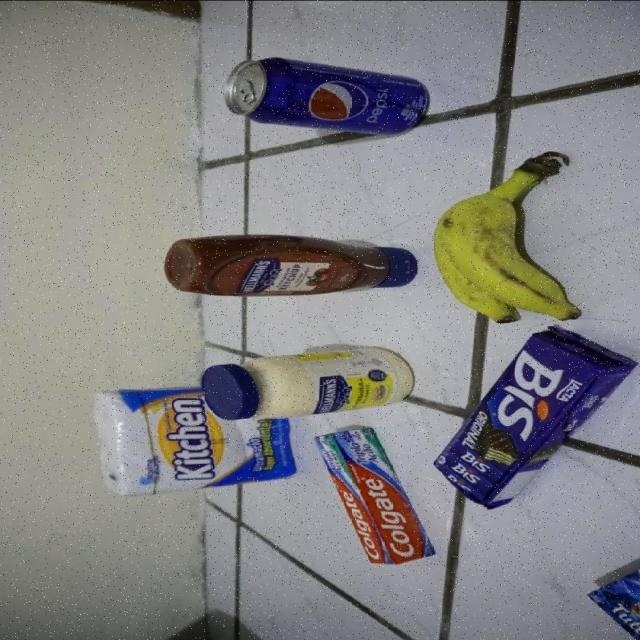Banana: (435, 152, 582, 321)
Gelatine: (587, 560, 639, 640)
Ketchup: (164, 234, 418, 295)
Mayonnaise: (203, 346, 416, 419)
Napkin: (94, 382, 296, 496)
SodaCan: (225, 56, 437, 132)
Toothpaste: (314, 427, 436, 563)
